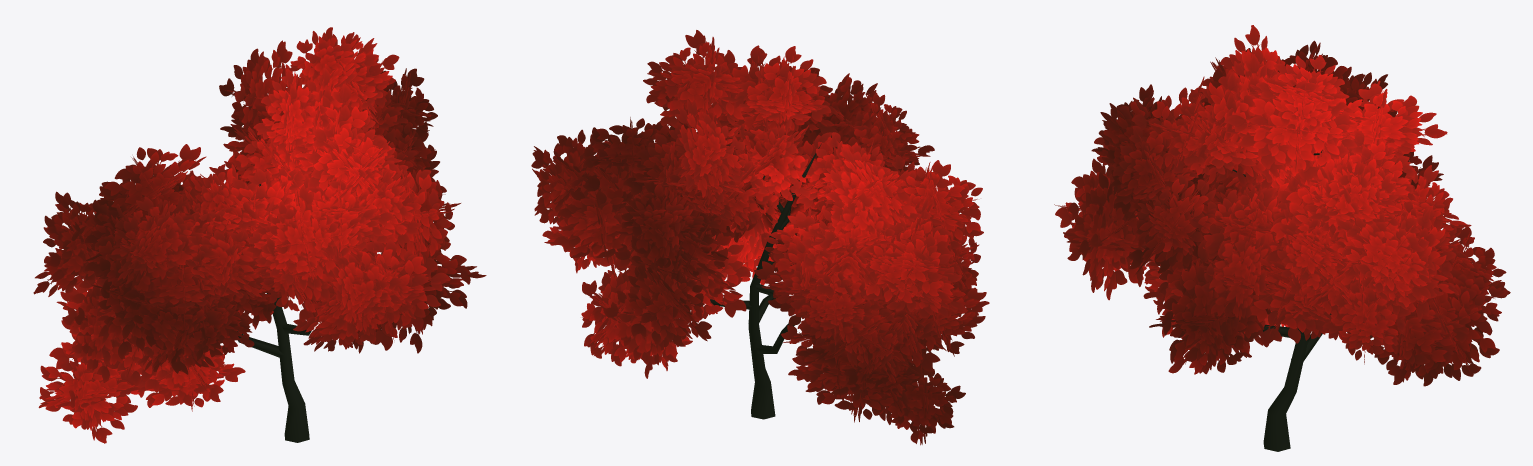
File: tree_medium.glb
The picture shows the model from 3 angles, left to right: view 1: azimuth 30°, elevation 25°; view 2: azimuth 150°, elevation 25°; view 3: azimuth 270°, elevation 25°; orthographic projection. The views are drawn at different scales.
Parts seen in each view (by area): view 1: tree_medium; view 2: tree_medium; view 3: tree_medium.
Boxes of the visible parts, x1,y1,x2,y2 form: tree_medium: (33,27,486,443); tree_medium: (531,30,989,445); tree_medium: (1054,25,1510,451).
Bounding box in the file's own units: 18.59 × 15.25 × 15.77.
1 material, 1 textured.
